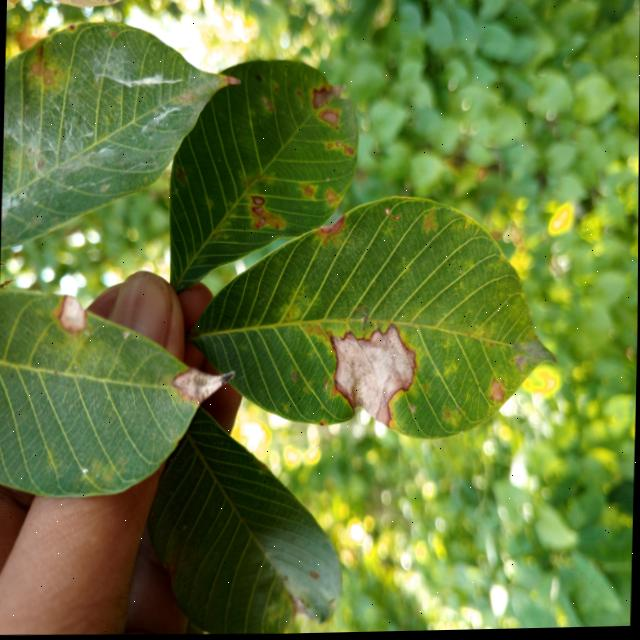Colletotrichum: (68, 25, 73, 30), (106, 0, 114, 3)
Leaf-Blight: (327, 325, 416, 431), (172, 365, 235, 405), (57, 294, 86, 333), (311, 86, 345, 112), (319, 216, 343, 235), (321, 112, 337, 125)
